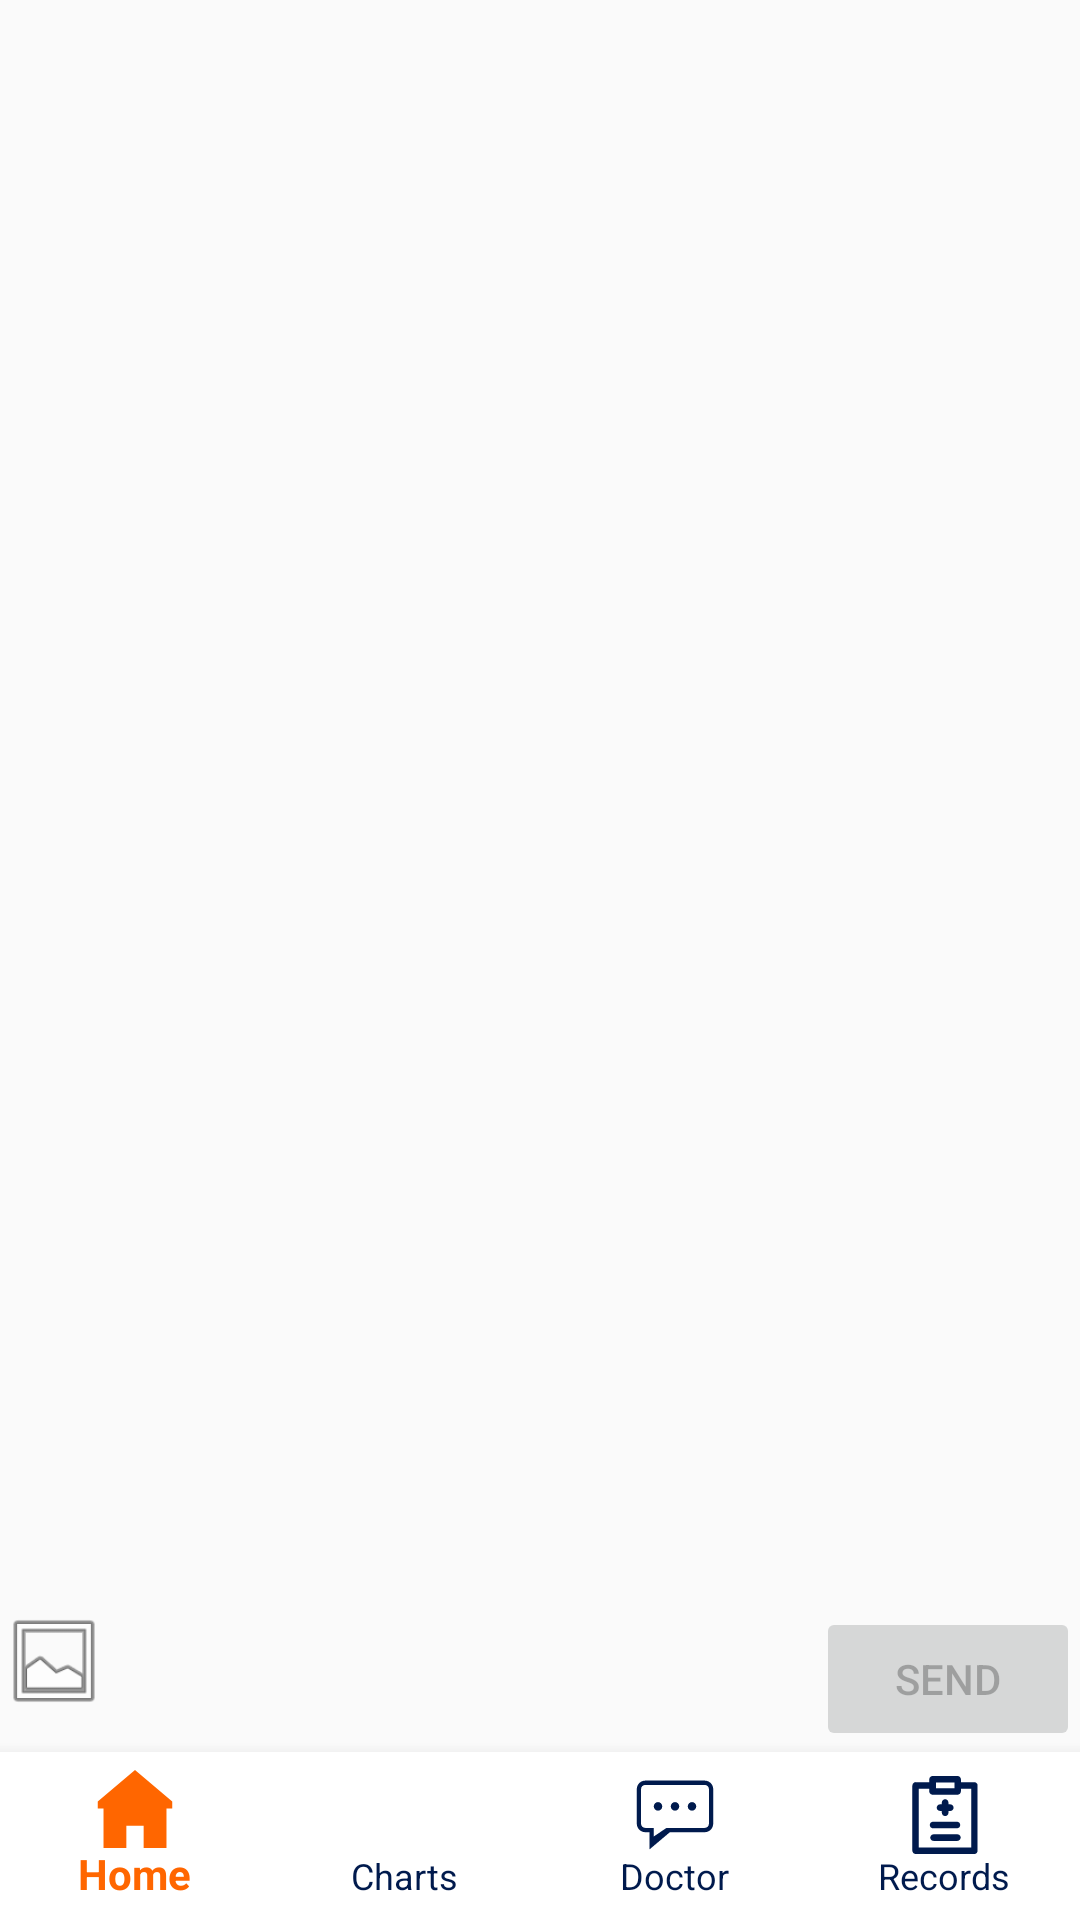

Icon bounding boxes for this 1080*1920 phone screenshot, format (x1, y1, x2, y2):
gallery: (13, 1620, 95, 1702)
